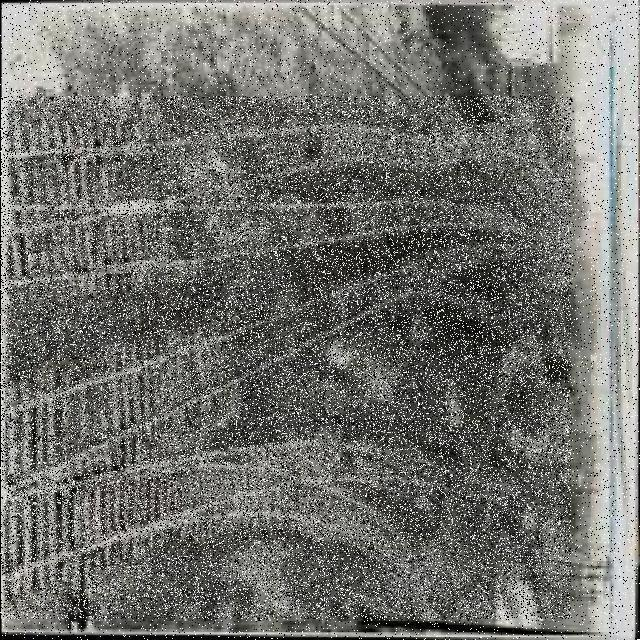rail: (2, 98, 572, 620)
